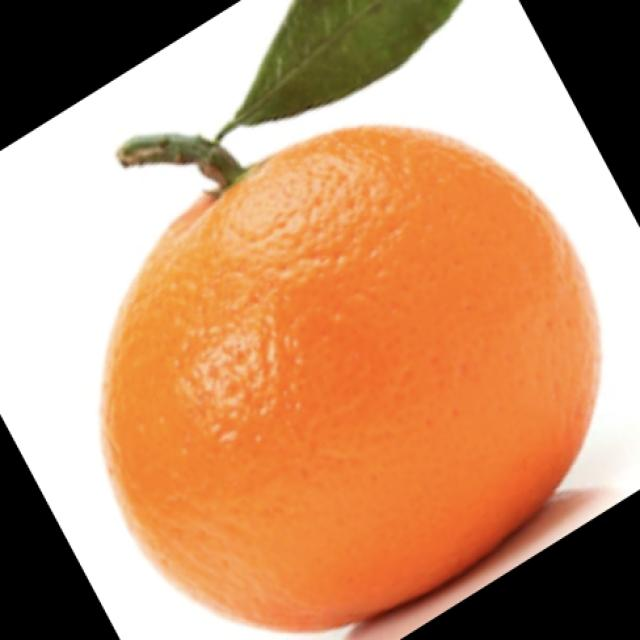matang: (100, 121, 599, 638)
